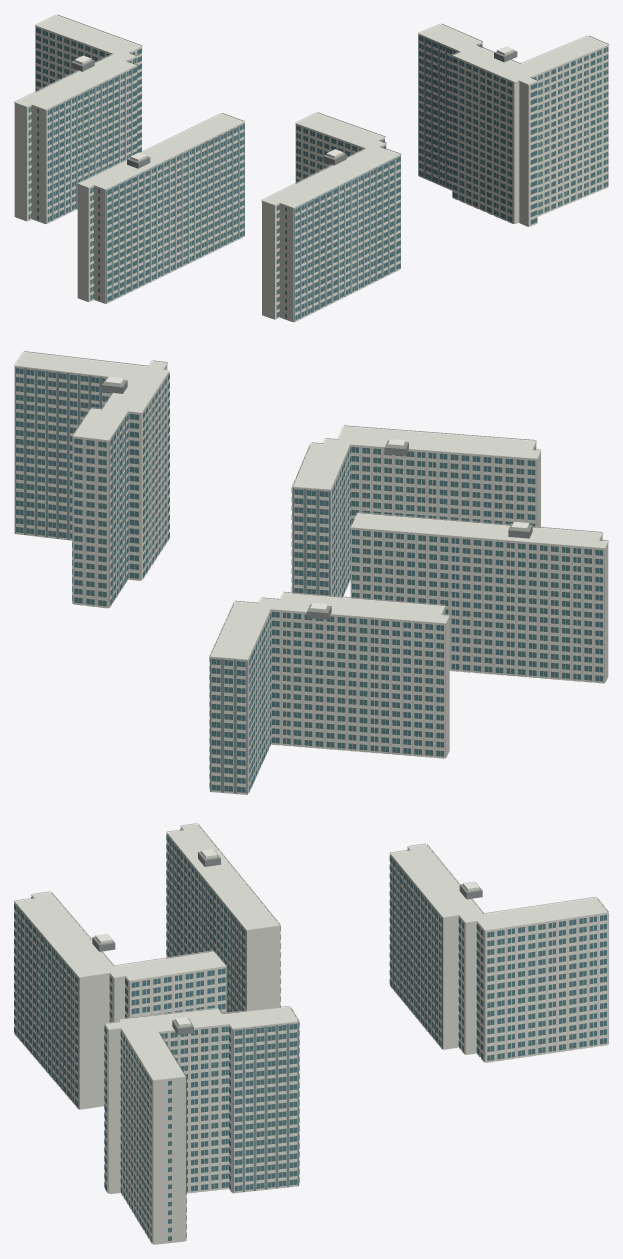
File: representative-a13980511.glb
3 views of the same model, one above another, from view 1: azimuth 30°, elevation 25°; view 2: azimuth 150°, elevation 25°; view 3: azimuth 270°, elevation 25° (orthographic). The views are drawn at different scales.
Visible parts, largest first — view 1: A13980511_trim001, A13980511_glass001, A13980511_wall001, A13980511_accent001, A13980511_roof001; view 2: A13980511_trim001, A13980511_glass001, A13980511_wall001, A13980511_accent001, A13980511_roof001; view 3: A13980511_wall001, A13980511_trim001, A13980511_glass001, A13980511_accent001, A13980511_roof001.
Boxes of the visible parts, box(x1,y1,x2,y2) form: A13980511_trim001: box(14, 14, 608, 321); A13980511_glass001: box(28, 27, 608, 320); A13980511_wall001: box(14, 15, 608, 322); A13980511_accent001: box(35, 26, 458, 322); A13980511_roof001: box(71, 50, 517, 168); A13980511_trim001: box(14, 351, 608, 794); A13980511_glass001: box(16, 360, 602, 792); A13980511_wall001: box(15, 352, 608, 794); A13980511_accent001: box(14, 367, 330, 794); A13980511_roof001: box(102, 378, 532, 619); A13980511_wall001: box(15, 824, 608, 1244); A13980511_trim001: box(14, 823, 608, 1243); A13980511_glass001: box(14, 829, 606, 1241); A13980511_accent001: box(14, 834, 608, 1240); A13980511_roof001: box(92, 850, 482, 1034).
Bounding box in the file's own units: 193 × 53.8 × 168.
